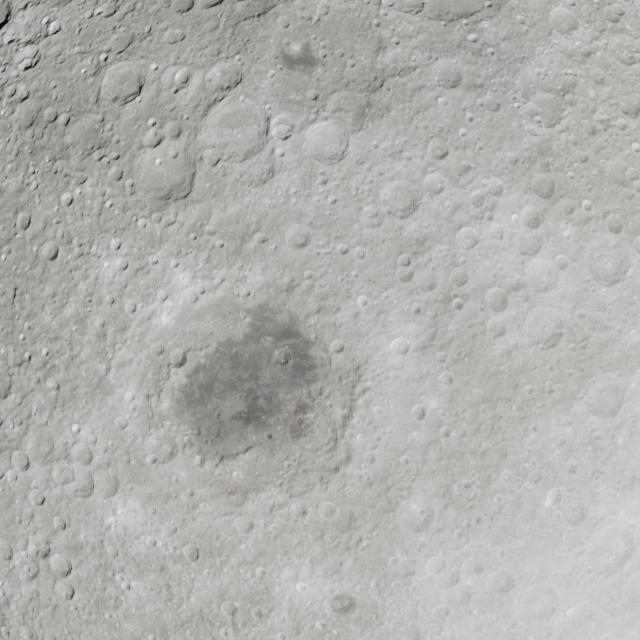crater: (300, 120, 348, 165), (522, 302, 568, 348), (582, 378, 626, 418), (585, 244, 626, 286), (202, 59, 245, 96), (378, 178, 417, 217), (522, 255, 558, 289), (142, 431, 177, 465), (550, 492, 584, 526), (323, 502, 358, 535), (429, 58, 465, 89), (513, 224, 546, 257), (402, 495, 434, 529), (25, 432, 54, 463), (91, 468, 119, 500), (548, 5, 580, 33), (52, 461, 82, 490), (160, 65, 190, 93), (14, 44, 41, 71), (68, 441, 95, 467), (411, 268, 438, 294), (483, 286, 509, 312), (486, 315, 512, 341), (454, 226, 480, 251), (530, 174, 556, 198), (284, 225, 310, 249), (486, 572, 511, 596), (519, 205, 543, 229), (422, 172, 446, 195), (48, 553, 72, 576), (433, 567, 456, 591), (360, 205, 383, 228), (542, 487, 564, 511), (468, 186, 492, 208), (426, 138, 449, 160), (618, 95, 640, 118), (38, 240, 60, 262), (448, 266, 470, 288), (232, 515, 255, 536), (141, 127, 163, 148), (160, 27, 186, 44), (55, 579, 76, 600), (389, 336, 411, 356), (317, 500, 339, 520), (10, 450, 30, 472), (604, 213, 624, 234), (161, 120, 182, 140), (425, 556, 445, 576), (27, 488, 47, 508), (270, 123, 292, 141), (169, 349, 188, 369), (41, 106, 60, 125), (289, 500, 308, 519), (182, 543, 200, 562), (220, 601, 239, 619), (106, 166, 124, 183), (15, 212, 32, 230), (410, 404, 428, 421), (328, 338, 346, 354), (553, 254, 569, 271), (396, 253, 413, 269), (112, 256, 129, 272), (52, 515, 67, 533), (204, 153, 220, 169), (276, 14, 292, 30), (624, 166, 640, 182), (437, 370, 454, 385), (484, 98, 501, 113), (410, 302, 426, 317), (56, 112, 71, 128), (583, 120, 598, 136), (45, 377, 60, 392), (71, 244, 85, 260), (250, 606, 266, 620), (614, 117, 630, 131), (155, 288, 169, 303), (124, 300, 138, 315), (305, 88, 320, 102), (113, 416, 128, 430), (93, 316, 107, 331), (60, 192, 74, 207), (592, 72, 608, 85), (451, 297, 465, 311), (439, 425, 453, 439), (398, 453, 412, 467), (356, 294, 370, 308), (124, 178, 136, 194), (335, 242, 349, 255), (522, 384, 536, 397), (144, 453, 158, 466), (109, 238, 122, 252), (5, 470, 18, 484), (144, 535, 157, 548), (581, 199, 594, 212), (150, 212, 162, 225), (136, 217, 148, 230), (354, 248, 367, 260), (303, 269, 315, 281), (464, 111, 476, 123), (254, 566, 266, 578), (123, 391, 135, 403), (575, 310, 588, 321), (214, 239, 226, 250), (70, 423, 81, 434), (194, 454, 204, 466), (98, 53, 110, 63), (146, 117, 158, 127), (188, 232, 198, 242), (149, 256, 159, 266), (41, 347, 50, 357), (18, 333, 26, 342)
